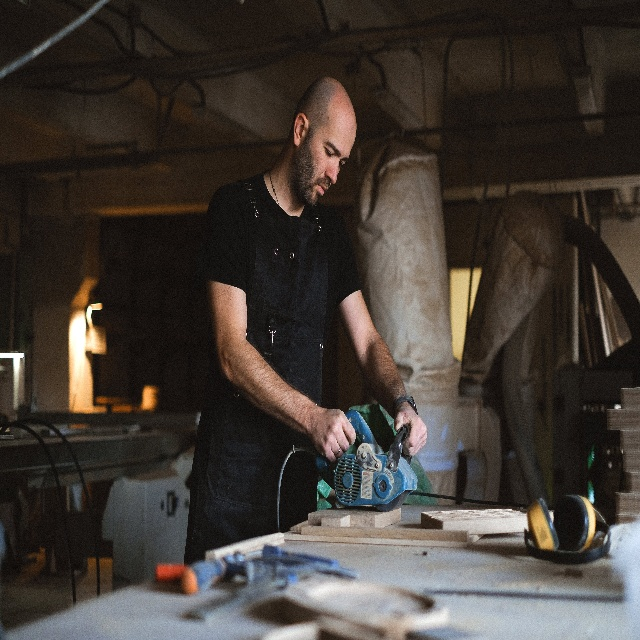Sin_guantes: (313, 404, 356, 461), (393, 401, 428, 456)
